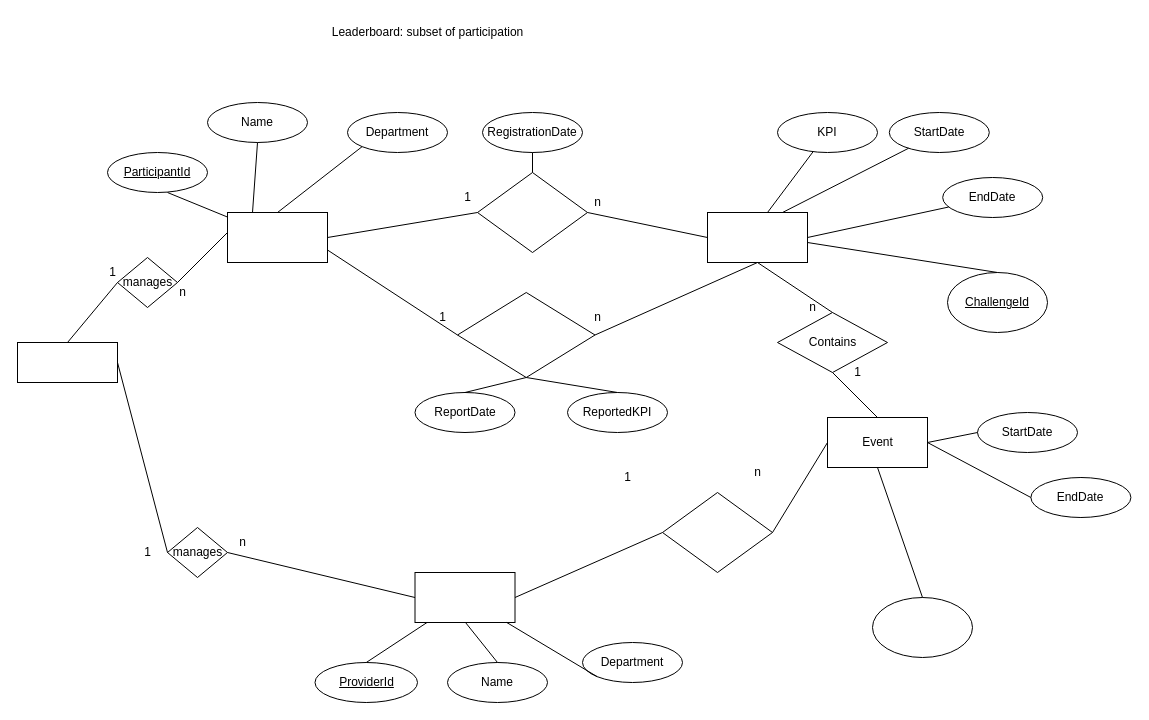
Some shapes in this 1149 by 720 pixel diagram are drawn without their labels. The centre of each missing label's shape, as x and y in pixels:
Admin: the point at 67,362
Challenge: the point at 757,237
Creates: the point at 717,532
EventId: the point at 922,627
Participant: the point at 277,237
Provider: the point at 464,597
Registers_for: the point at 532,212
Reports_Activities _To: the point at 525,335
